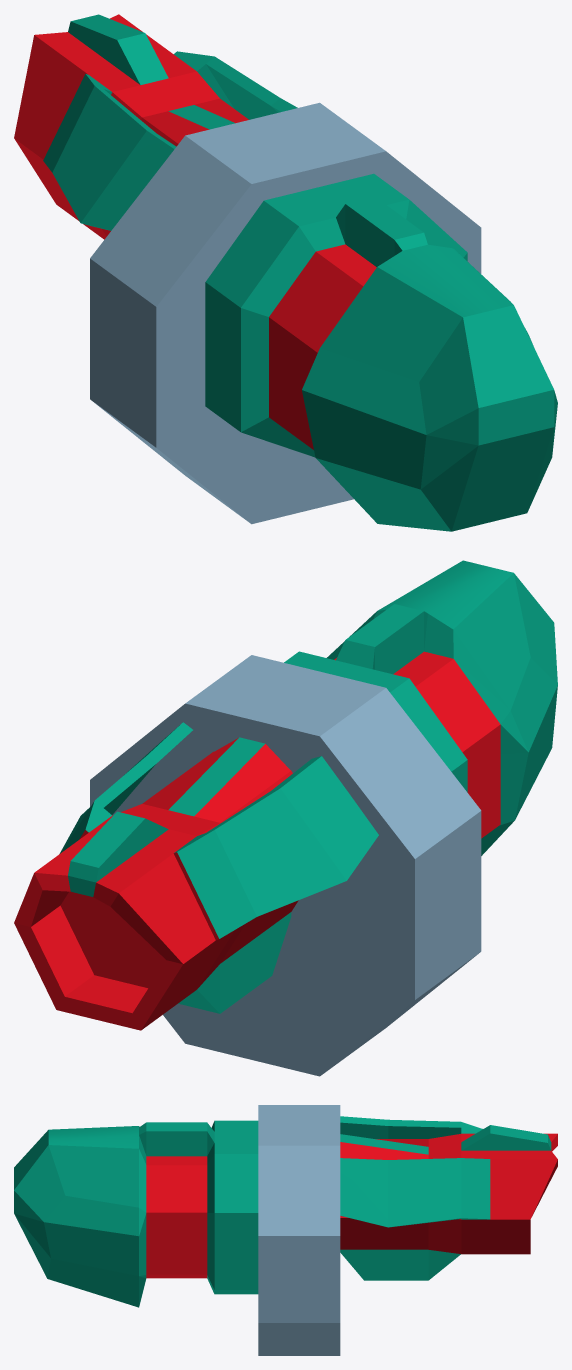
File: Gear_Demolisher.fbx
The picture shows the model from 3 angles, top to bottom: view 1: azimuth 30°, elevation 25°; view 2: azimuth 150°, elevation 25°; view 3: azimuth 270°, elevation 25°; orthographic projection. The views are drawn at different scales.
Visible parts, largest first — view 1: demolisher; view 2: demolisher; view 3: demolisher.
Boxes of the visible parts, box(x1,y1,x2,y2) form: demolisher: box(14, 14, 557, 531); demolisher: box(14, 560, 557, 1076); demolisher: box(14, 1105, 557, 1355).
Size of the model in its own units: 465 by 465 by 1090.
